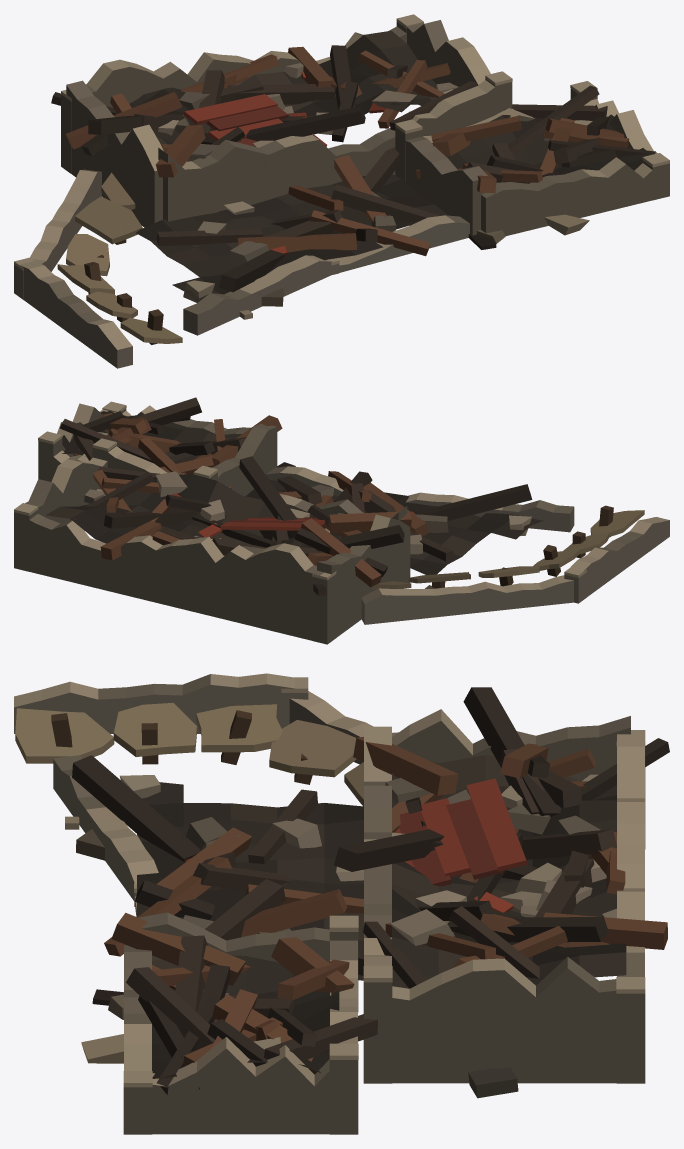
File: VerBuild05b.glb
The picture shows the model from 3 angles, top to bottom: view 1: azimuth 30°, elevation 25°; view 2: azimuth 150°, elevation 25°; view 3: azimuth 270°, elevation 25°; orthographic projection. The views are drawn at different scales.
Visible parts, largest first — view 1: VerBuild05b_wall; view 2: VerBuild05b_wall; view 3: VerBuild05b_wall.
Part boxes in pixels (x1,y1,x2,y2): VerBuild05b_wall: (14, 14, 669, 368); VerBuild05b_wall: (14, 397, 669, 644); VerBuild05b_wall: (14, 673, 669, 1134).
Bounding box in the file's own units: 10.61 × 1.65 × 7.13.
